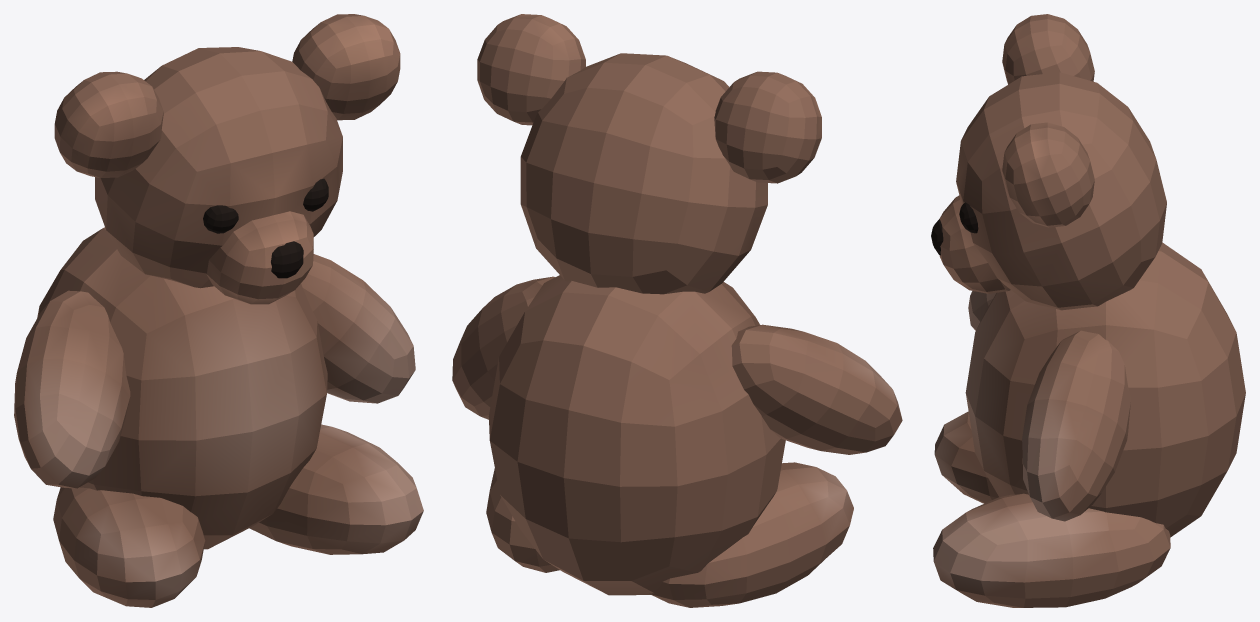
Rendered from teddy.fbx.
3 renders of one model, left to right at view 1: azimuth 30°, elevation 25°; view 2: azimuth 150°, elevation 25°; view 3: azimuth 270°, elevation 25°, orthographic. The views are drawn at different scales.
Visible parts, largest first — view 1: teddy; view 2: teddy; view 3: teddy.
Part boxes in pixels (x1,y1,x2,y2): teddy: [14, 14, 423, 607]; teddy: [452, 14, 902, 607]; teddy: [931, 14, 1245, 607].
Size of the model in its own units: 0.4358 by 0.5235 by 0.3072.
